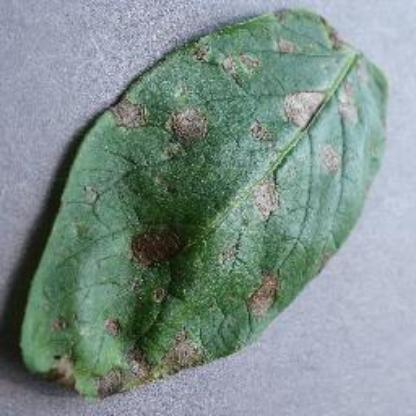Early-Blight: (18, 7, 390, 400)
